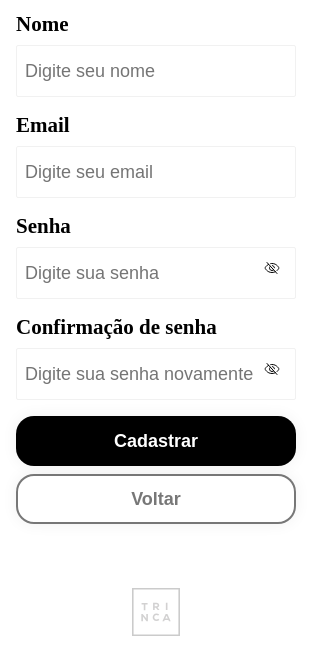
Test: SignIn › should return to the login screen by clicking "Voltar"
The width and height of the screenshot is (320, 653).
Click the button "Voltar": (156, 499) x1=16 y1=474 x2=296 y2=524
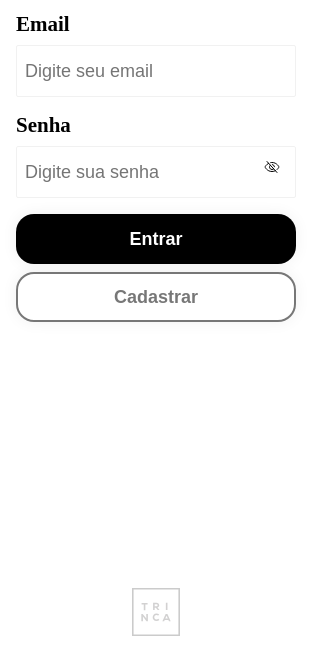
Now the button "Entrar" is shown, box x1=16 y1=214 x2=296 y2=264
